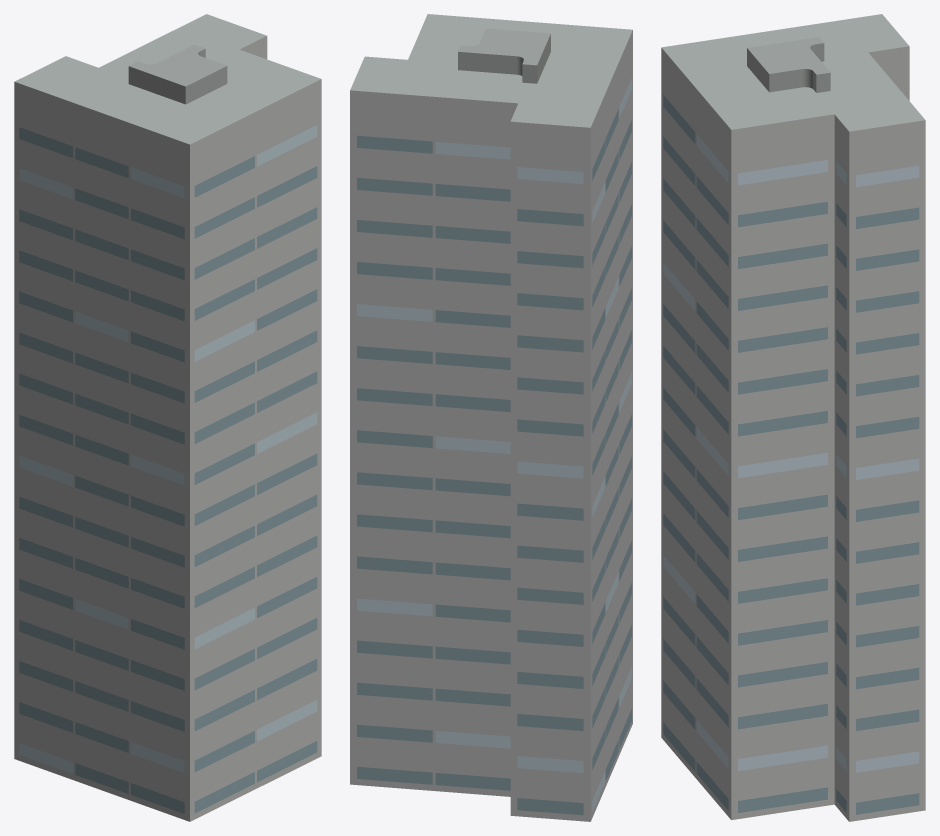
The model's file is fallback-songpa-helio-city-112.glb.
The picture shows the model from 3 angles, left to right: view 1: azimuth 30°, elevation 25°; view 2: azimuth 150°, elevation 25°; view 3: azimuth 270°, elevation 25°; orthographic projection. The views are drawn at different scales.
Visible parts, largest first — view 1: fallback-songpa-helio-city-112; view 2: fallback-songpa-helio-city-112; view 3: fallback-songpa-helio-city-112.
Part boxes in pixels (left/top/right/bottom): fallback-songpa-helio-city-112: left=14, top=14, right=321, bottom=821; fallback-songpa-helio-city-112: left=350, top=14, right=632, bottom=821; fallback-songpa-helio-city-112: left=661, top=14, right=925, bottom=821.
Size of the model in its own units: 33.13 by 93 by 31.44.
